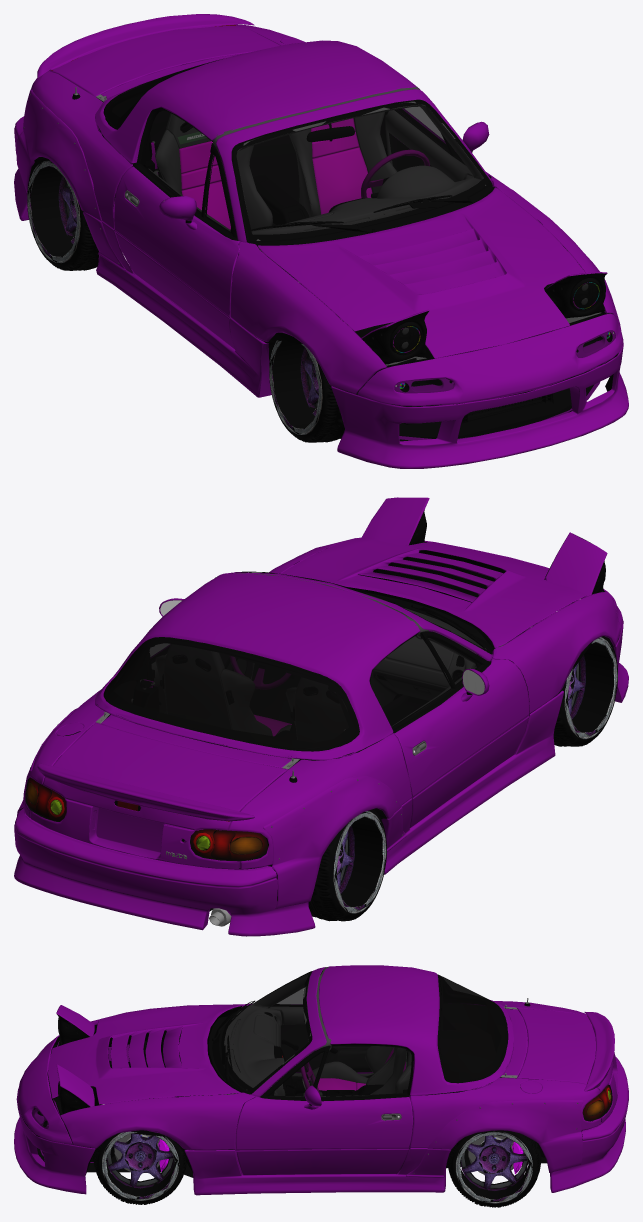
The model's file is mazda_miata_mx-5.glb.
3 renders of one model, top to bottom at view 1: azimuth 30°, elevation 25°; view 2: azimuth 150°, elevation 25°; view 3: azimuth 270°, elevation 25°, orthographic. The views are drawn at different scales.
Visible parts, largest first — view 1: RLA_miata_headlight_R_popup.001, RLA_miata_headlight_R_popup, RLA_miata_windshield, RLA_miata_seat_driver_a, RLA_miata_seat_passenger_a, RLA_miata_window_rf, RLA_miata_dash, RLA_miata_wheel.003, RLA_miata_wheel.002, Object_4.002_Scene_-_Root.002_0, Object_4.004_Scene_-_Root.002_0, RLA_miata_signal_R (+3 smaller); view 2: RLA_miata_headlight_R_popup.001, RLA_miata_headlight_R_popup, RLA_miata_seat_driver_a, RLA_miata_window_rf, RLA_miata_dash, RLA_miata_wheel.003, RLA_miata_wheel.002, RLA_miata_seat_passenger_a, RLA_miata_taillight_L.001, Object_4.004_Scene_-_Root.002_0, RLA_miata_taillight_L, Object_4.002_Scene_-_Root.002_0; view 3: RLA_miata_headlight_R_popup.001, RLA_miata_headlight_R_popup, RLA_miata_windshield, RLA_miata_window_lf, RLA_miata_wheel.001, RLA_miata_dash, RLA_miata_wheel, RLA_miata_seat_passenger_a, Object_4.001_Scene_-_Root.002_0, Object_4.003_Scene_-_Root.002_0, RLA_miata_seat_driver_a, RLA_miata_taillight_L (+3 smaller).
Boxes of the visible parts, bbox=[...] form: RLA_miata_headlight_R_popup.001: bbox=[14, 14, 628, 468]; RLA_miata_headlight_R_popup: bbox=[23, 33, 618, 441]; RLA_miata_windshield: bbox=[236, 104, 483, 234]; RLA_miata_seat_driver_a: bbox=[289, 112, 396, 217]; RLA_miata_seat_passenger_a: bbox=[155, 113, 272, 231]; RLA_miata_window_rf: bbox=[140, 108, 232, 233]; RLA_miata_dash: bbox=[252, 165, 481, 234]; RLA_miata_wheel.003: bbox=[27, 160, 80, 263]; RLA_miata_wheel.002: bbox=[269, 340, 322, 434]; Object_4.002_Scene_-_Root.002_0: bbox=[269, 342, 344, 442]; Object_4.004_Scene_-_Root.002_0: bbox=[27, 157, 115, 270]; RLA_miata_signal_R: bbox=[394, 378, 453, 392]; RLA_miata_headlight_R_popup.001: bbox=[14, 497, 628, 936]; RLA_miata_headlight_R_popup: bbox=[18, 510, 618, 911]; RLA_miata_seat_driver_a: bbox=[156, 644, 291, 735]; RLA_miata_window_rf: bbox=[369, 633, 480, 726]; RLA_miata_dash: bbox=[370, 608, 482, 707]; RLA_miata_wheel.003: bbox=[333, 811, 386, 913]; RLA_miata_wheel.002: bbox=[564, 637, 617, 739]; RLA_miata_seat_passenger_a: bbox=[286, 677, 348, 748]; RLA_miata_taillight_L.001: bbox=[191, 829, 268, 860]; Object_4.004_Scene_-_Root.002_0: bbox=[308, 808, 386, 921]; RLA_miata_taillight_L: bbox=[26, 778, 66, 821]; Object_4.002_Scene_-_Root.002_0: bbox=[553, 636, 617, 746]; RLA_miata_headlight_R_popup.001: bbox=[14, 965, 628, 1195]; RLA_miata_headlight_R_popup: bbox=[18, 967, 612, 1177]; RLA_miata_windshield: bbox=[224, 973, 308, 1087]; RLA_miata_window_lf: bbox=[270, 1044, 412, 1097]; RLA_miata_wheel.001: bbox=[455, 1130, 532, 1203]; RLA_miata_dash: bbox=[224, 1005, 296, 1095]; RLA_miata_wheel: bbox=[102, 1131, 179, 1200]; RLA_miata_seat_passenger_a: bbox=[302, 1046, 397, 1090]; Object_4.001_Scene_-_Root.002_0: bbox=[447, 1130, 541, 1207]; Object_4.003_Scene_-_Root.002_0: bbox=[93, 1133, 186, 1204]; RLA_miata_seat_driver_a: bbox=[370, 1047, 411, 1094]; RLA_miata_taillight_L: bbox=[582, 1085, 611, 1120].
Size of what is drawn, in the model's own units: 1.81 by 1.14 by 3.93.
Materials: 41 (8 with a texture image).
